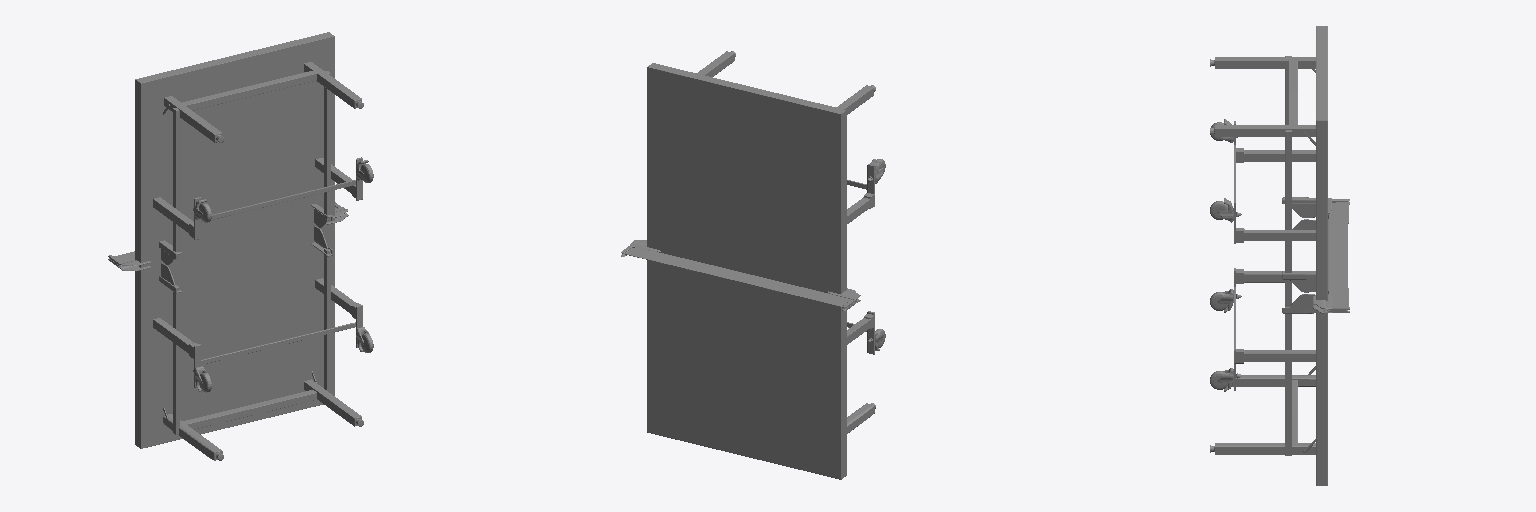
Rendered from pong_table.obj.
3 views of the same model, side by side, from view 1: azimuth 30°, elevation 25°; view 2: azimuth 150°, elevation 25°; view 3: azimuth 270°, elevation 25° (orthographic).
Parts seen in each view (by area): view 1: 10520_pingpongtable_L2; view 2: 10520_pingpongtable_L2; view 3: 10520_pingpongtable_L2.
Boxes of the visible parts, box(x1,y1,x2,y2) form: 10520_pingpongtable_L2: box(108, 32, 373, 460); 10520_pingpongtable_L2: box(621, 51, 885, 479); 10520_pingpongtable_L2: box(1210, 26, 1349, 485).
Bounding box in the file's own units: 8.96 × 13.81 × 4.82.